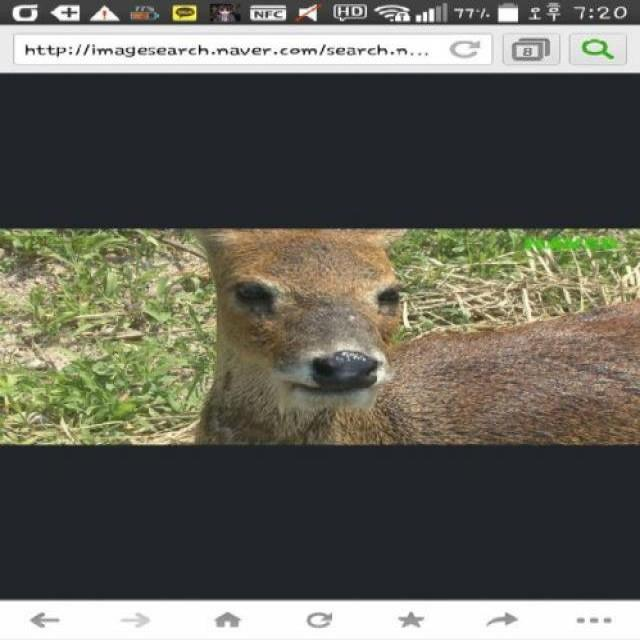deer: (152, 226, 640, 443)
